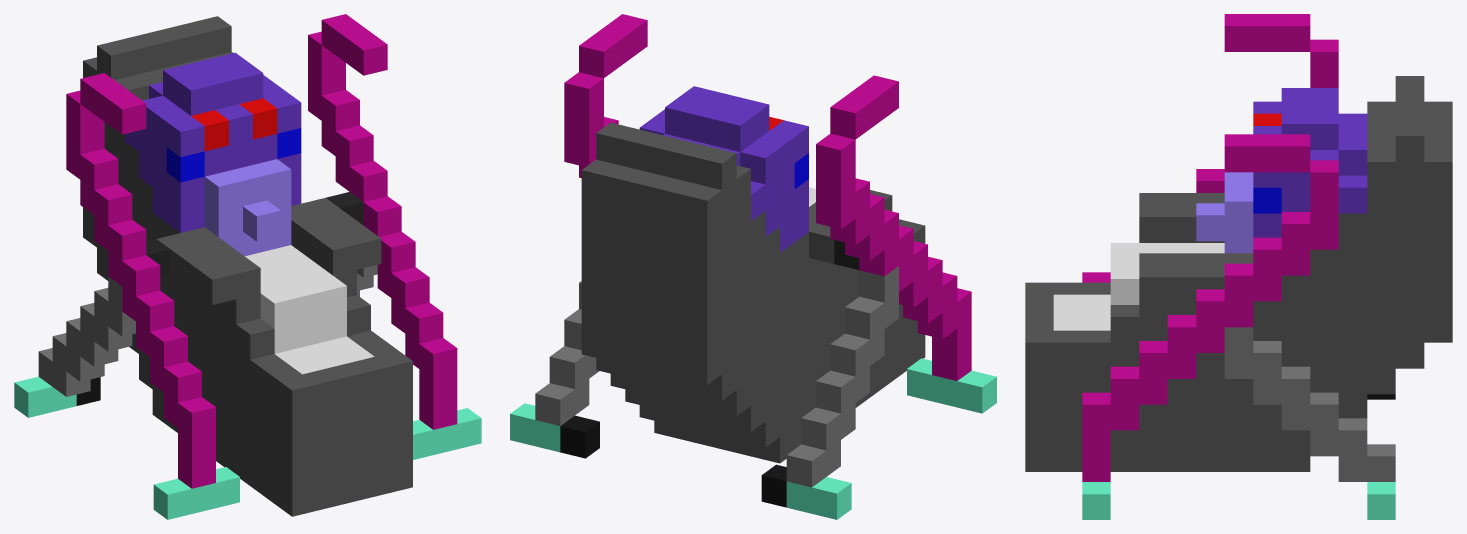
Rendered from gglive_baby_main.obj.
The picture shows the model from 3 angles, left to right: view 1: azimuth 30°, elevation 25°; view 2: azimuth 150°, elevation 25°; view 3: azimuth 270°, elevation 25°; orthographic projection. The views are drawn at different scales.
Parts seen in each view (by area): view 1: gglive_baby_main; view 2: gglive_baby_main; view 3: gglive_baby_main.
Boxes of the visible parts, x1,y1,x2,y2 form: gglive_baby_main: [14, 14, 481, 519]; gglive_baby_main: [510, 14, 996, 519]; gglive_baby_main: [1025, 14, 1452, 519].
Size of the model in its own units: 13 by 14 by 15.
1 material, 1 textured.
